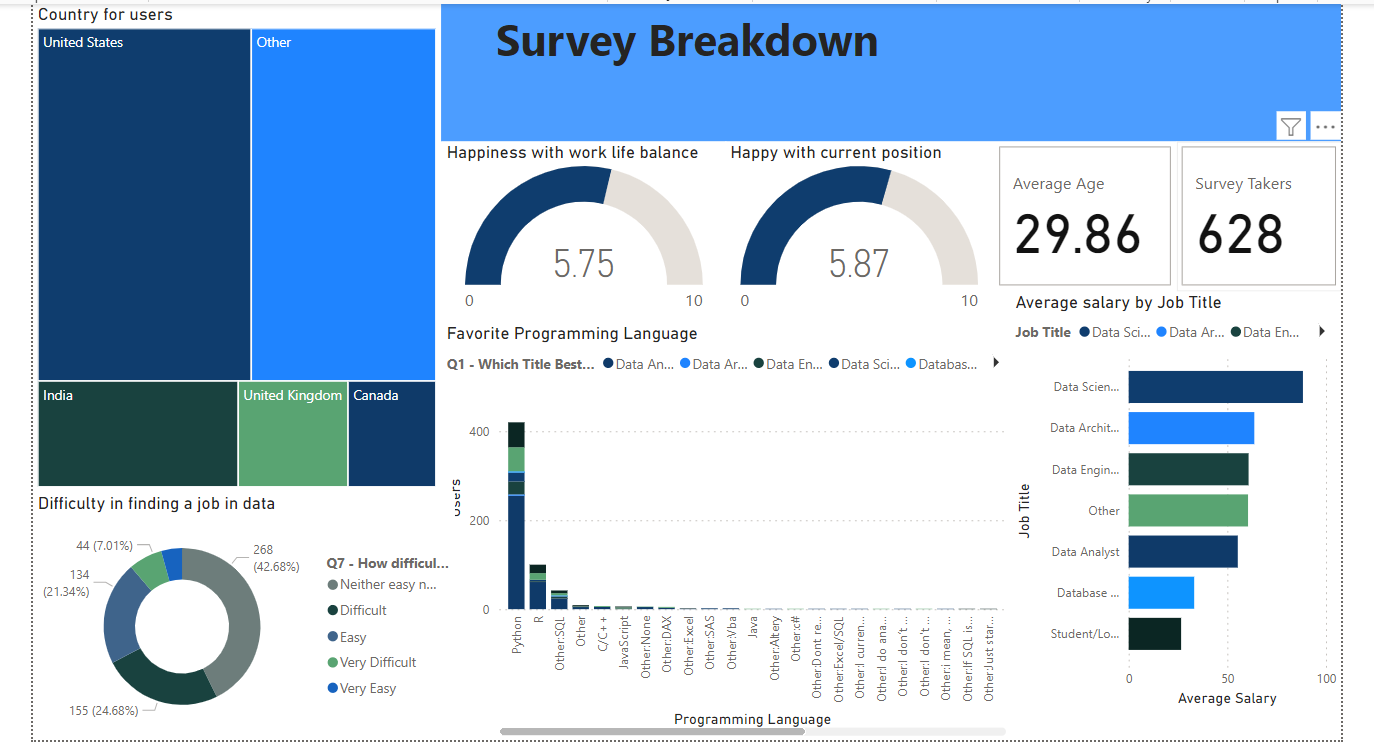

Layout of this report page (visuals, bound fields, positions):
{"tool":"powerbi","page":{"name":"Page 1","canvas":[1280,720],"ordinal":0},"visuals":[{"type":"textbox","box":[0,0,1280.3,134.5],"z":0},{"type":"cardVisual","fields":{"Data":["CountNonNull(Data Professional Survey.Unique ID)"]},"box":[1118.4,134.5,161.9,146.8],"z":1000},{"type":"cardVisual","fields":{"Data":["Avg(Data Professional Survey.Q10 - Current Age)"]},"box":[940,134.5,178.4,146.8],"z":2000},{"type":"barChart","title":"Average salary by Job Title","fields":{"Y":["Avg(Data Professional Survey.average salary)"],"Category":["Data Professional Survey.Q1 - Which Title Best Fits your Current Role?.1"],"Series":["Data Professional Survey.Q1 - Which Title Best Fits your Current Role?.1"]},"box":[956.4,281.3,323.8,410.3],"z":3000},{"type":"columnChart","title":"Favorite Programming Language","fields":{"Category":["Data Professional Survey.Q5 - Favorite Programming Language"],"Y":["CountNonNull(Data Professional Survey.Unique ID)"],"Series":["Data Professional Survey.Q1 - Which Title Best Fits your Current Role?.1"]},"box":[399.3,311.5,557.1,408.9],"z":4000},{"type":"treemap","title":"Country for users","fields":{"Group":["Data Professional Survey.Q11 - Which Country do you live in?.1"],"Values":["CountNonNull(Data Professional Survey.Q11 - Which Country do you live in?.1)"]},"box":[0,0,399.3,477.5],"z":5000},{"type":"gauge","title":"Happy with current position","fields":{"Y":["Avg(Data Professional Survey.Q6 - How Happy are you in your Current Position with the following? (Coworkers))"],"MinValue":["Min(Data Professional Survey.Q6 - How Happy are you in your Current Position with the following? (Coworkers))1"],"MaxValue":["Max(Data Professional Survey.Q6 - How Happy are you in your Current Position with the following? (Coworkers))2"]},"box":[677.9,134.5,262.1,177],"z":5001},{"type":"gauge","title":"Happiness with work life balance","fields":{"Y":["Avg(Data Professional Survey.Q6 - How Happy are you in your Current Position with the following? (Work/Life Balance))"],"MinValue":["Min(Data Professional Survey.Q6 - How Happy are you in your Current Position with the following? (Work/Life Balance))1"],"MaxValue":["Max(Data Professional Survey.Q6 - How Happy are you in your Current Position with the following? (Work/Life Balance))2"]},"box":[399.3,134.5,278.6,177],"z":5002},{"type":"donutChart","title":"Difficulty in finding a job in data","fields":{"Category":["Data Professional Survey.Q7 - How difficult was it for you to break into Data?"],"Y":["CountNonNull(Data Professional Survey.Q7 - How difficult was it for you to break into Data?)"]},"box":[0,477.5,413,242.9],"z":5003}]}

Visuals, with their boxes in screenshot pixels (x1, y1, x2, y2):
textbox: x1=21, y1=0, x2=1339, y2=138
cardVisual - CountNonNull(Data Professional Survey.Unique ID): x1=1173, y1=138, x2=1339, y2=290
cardVisual - Avg(Data Professional Survey.Q10 - Current Age): x1=989, y1=138, x2=1173, y2=290
"Average salary by Job Title" barChart: x1=1006, y1=290, x2=1339, y2=712
"Favorite Programming Language" columnChart: x1=432, y1=321, x2=1006, y2=741
"Country for users" treemap: x1=21, y1=0, x2=432, y2=491
"Happy with current position" gauge: x1=719, y1=138, x2=989, y2=321
"Happiness with work life balance" gauge: x1=432, y1=138, x2=719, y2=321
"Difficulty in finding a job in data" donutChart: x1=21, y1=491, x2=447, y2=741
